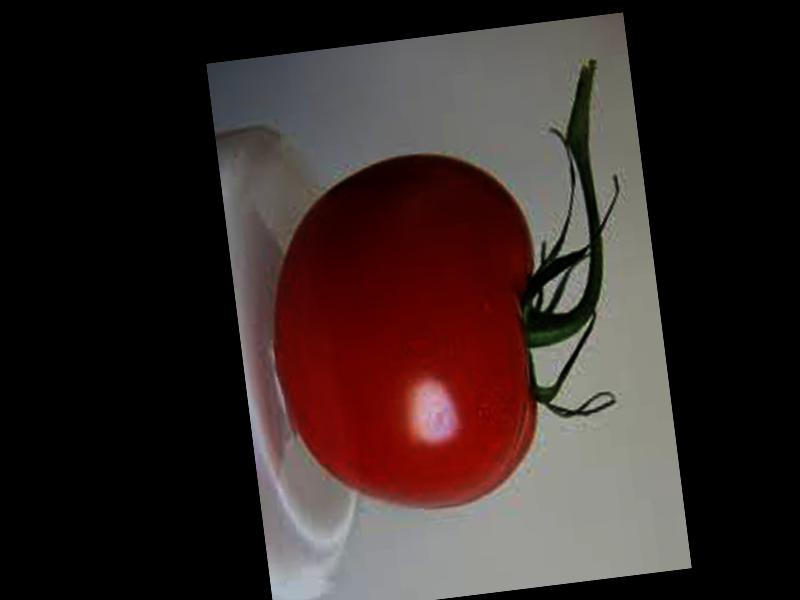Tomato: (254, 141, 562, 525)
